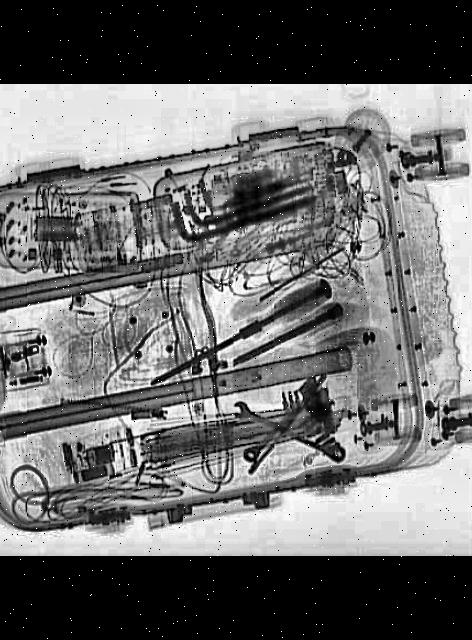Wrench: (229, 399, 351, 466)
